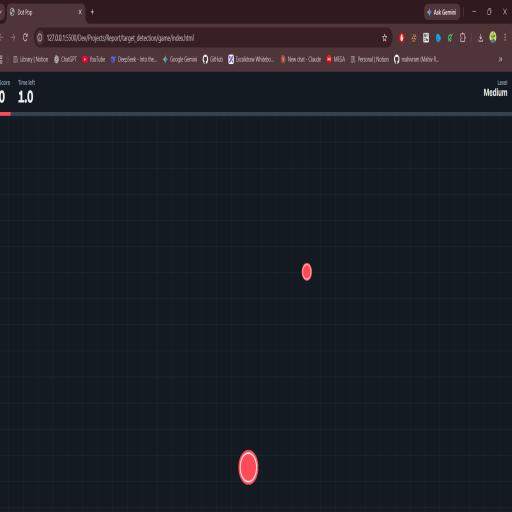Target-Detection: (238, 449, 258, 484), (302, 263, 312, 280)
